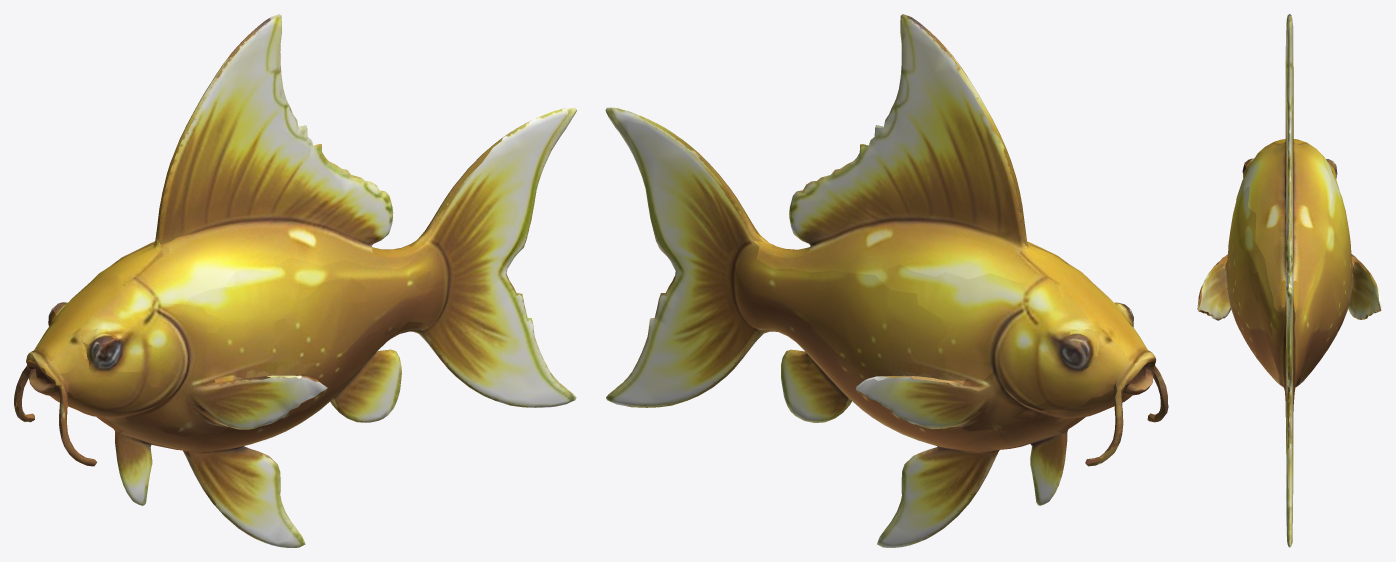
The model's file is fish_sailfin.glb.
3 renders of one model, left to right at view 1: azimuth 30°, elevation 25°; view 2: azimuth 150°, elevation 25°; view 3: azimuth 270°, elevation 25°, orthographic. The views are drawn at different scales.
Visible parts, largest first — view 1: fish_sailfin; view 2: fish_sailfin; view 3: fish_sailfin.
Boxes of the visible parts, bbox=[...] form: fish_sailfin: bbox=[14, 14, 576, 547]; fish_sailfin: bbox=[605, 14, 1168, 547]; fish_sailfin: bbox=[1197, 14, 1381, 547].
Size of the model in its own units: 1 by 0.9478 by 0.3337.
1 material, 1 textured.
